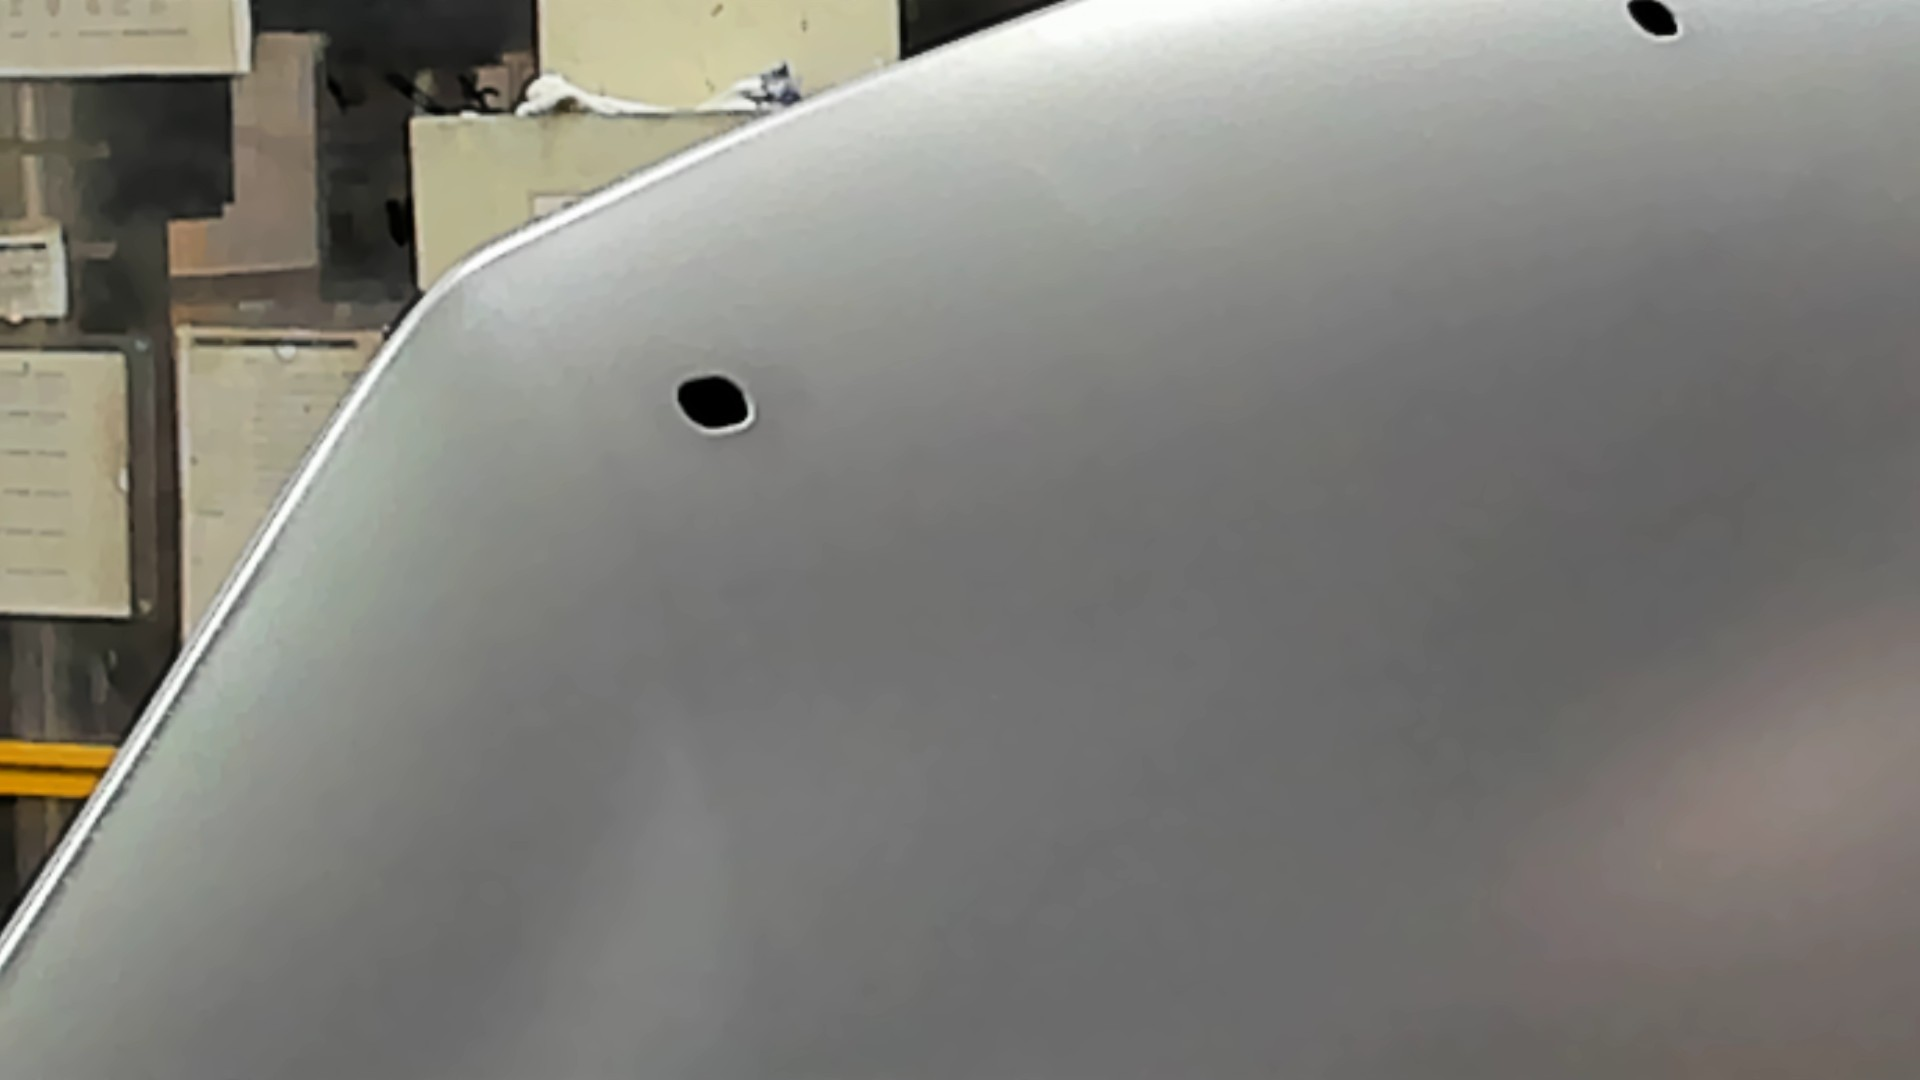amorfo: (669, 365, 761, 444), (1615, 1, 1693, 50)
capo: (860, 124, 1920, 1080)
